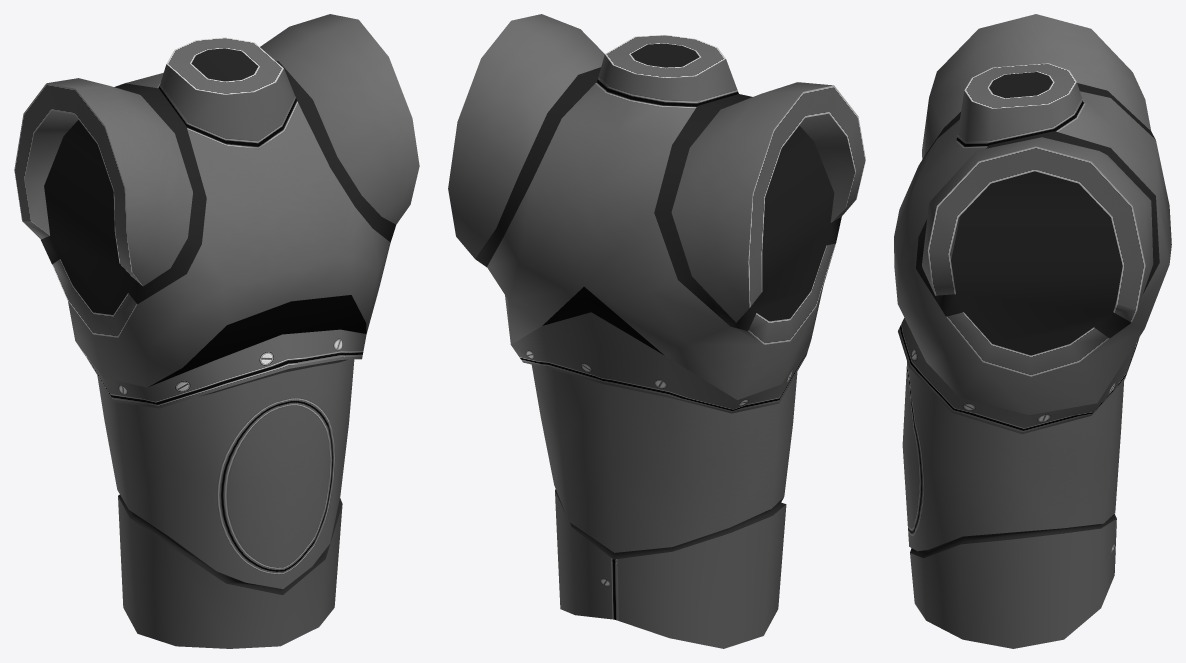
The model's file is body_s.fbx.
The picture shows the model from 3 angles, left to right: view 1: azimuth 30°, elevation 25°; view 2: azimuth 150°, elevation 25°; view 3: azimuth 270°, elevation 25°; orthographic projection. The views are drawn at different scales.
Parts seen in each view (by area): view 1: BODY_S; view 2: BODY_S; view 3: BODY_S.
Part boxes in pixels (x1=…): BODY_S: x1=14, y1=14, x2=419, y2=648; BODY_S: x1=448, y1=14, x2=865, y2=648; BODY_S: x1=894, y1=14, x2=1171, y2=648.
Bounding box in the file's own units: 25.96 × 46.23 × 22.13.
